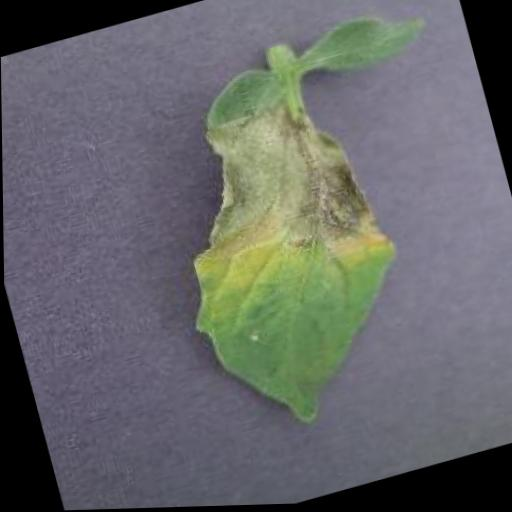Late Blight: (125, 0, 512, 456)
